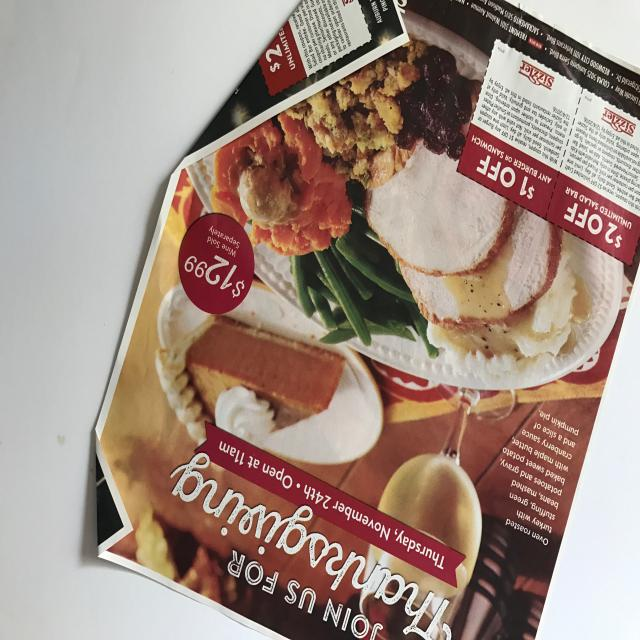paper: (94, 24, 639, 640)
